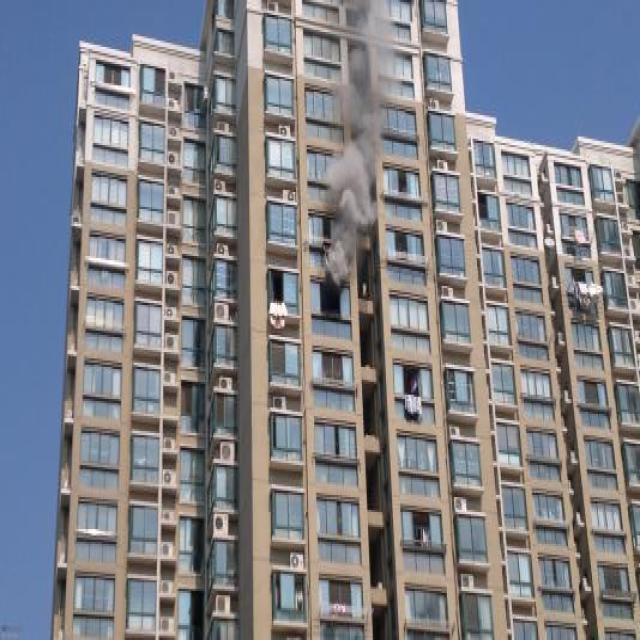smoke: (319, 17, 383, 290)
